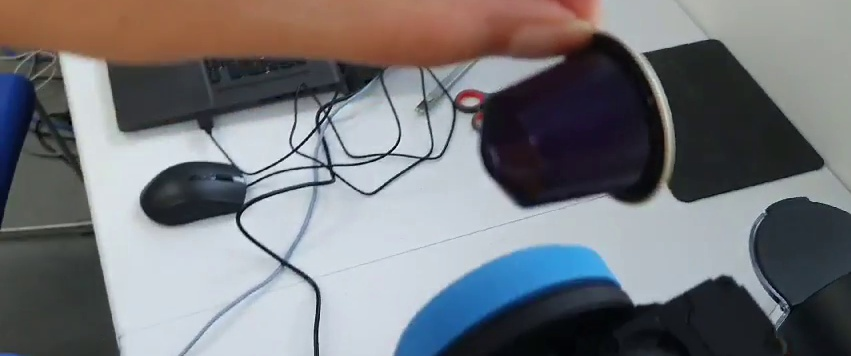capsule_2: (478, 25, 674, 209)
